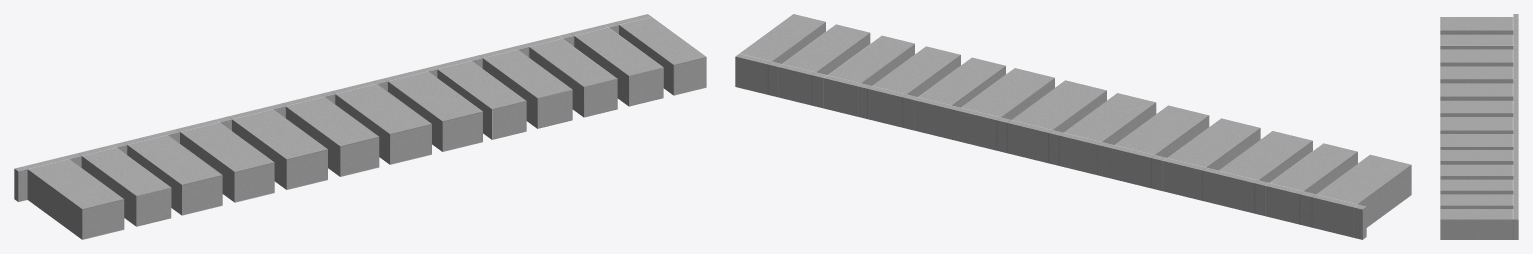
The model's file is grateTextured.obj.
3 views of the same model, side by side, from view 1: azimuth 30°, elevation 25°; view 2: azimuth 150°, elevation 25°; view 3: azimuth 270°, elevation 25° (orthographic). The views are drawn at different scales.
Parts seen in each view (by area): view 1: grate:grate; view 2: grate:grate; view 3: grate:grate.
Boxes of the visible parts, x1=… form: grate:grate: x1=14, y1=14, x2=706, y2=239; grate:grate: x1=735, y1=14, x2=1411, y2=239; grate:grate: x1=1440, y1=14, x2=1518, y2=239.
Size of the model in its own units: 6.12 by 0.283 by 0.9824.
1 material, 1 textured.
